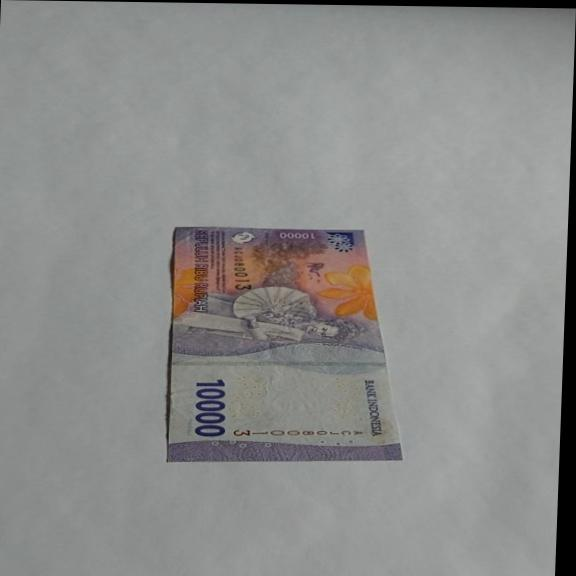Kertas: (162, 225, 412, 465), (191, 378, 229, 438)
